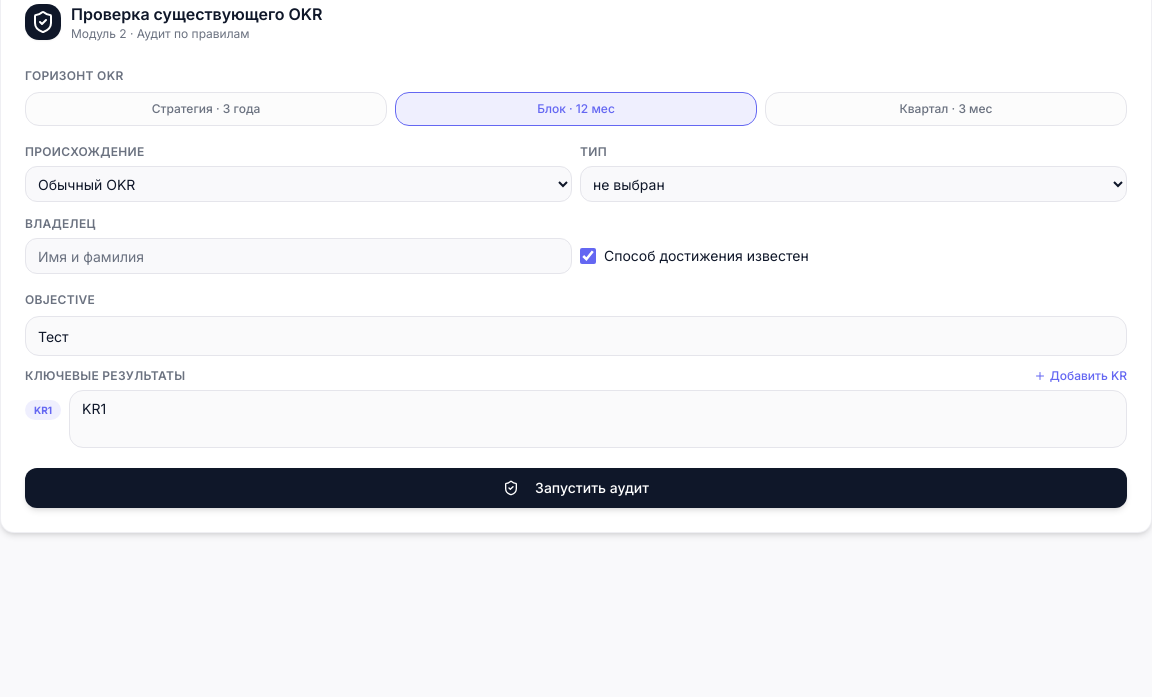
OkrValidator: fix-button + save/replace › кнопка 'Предложить исправления' видна при наличии pass=false правил
Click the button "Запустить аудит": (576, 488) left=25, top=468, right=1127, bottom=508
(page scrolled)
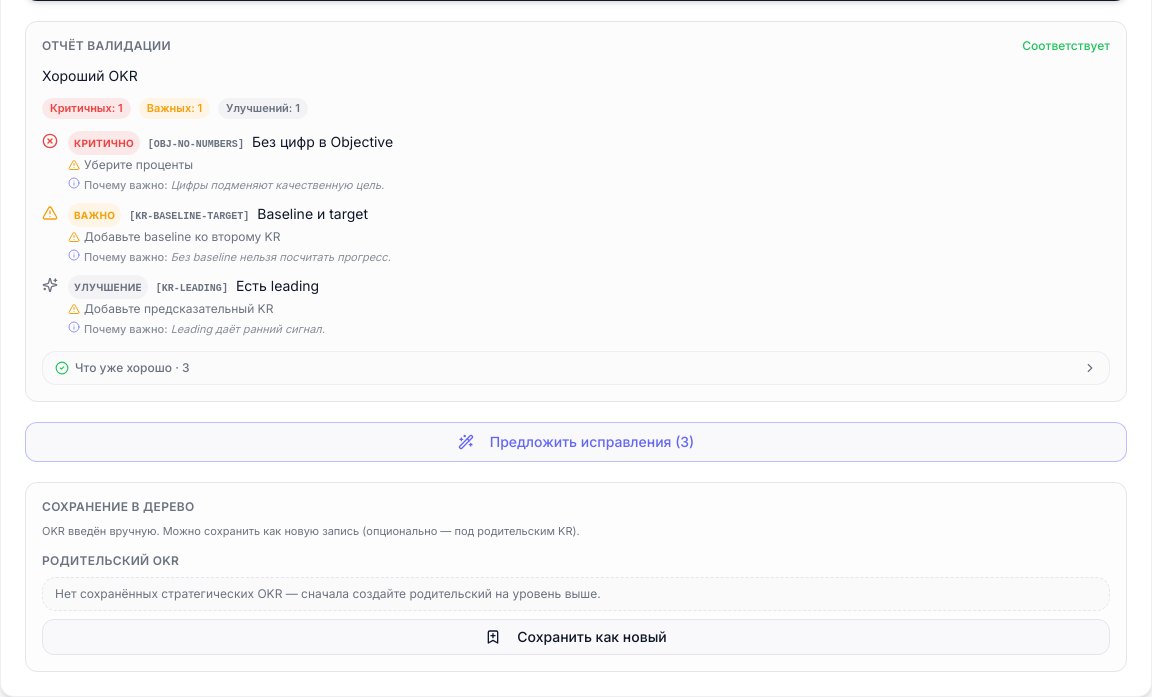
Expected: the button with test id "request-fix-button" shows "Предложить исправления", left=25, top=422, right=1127, bottom=462
